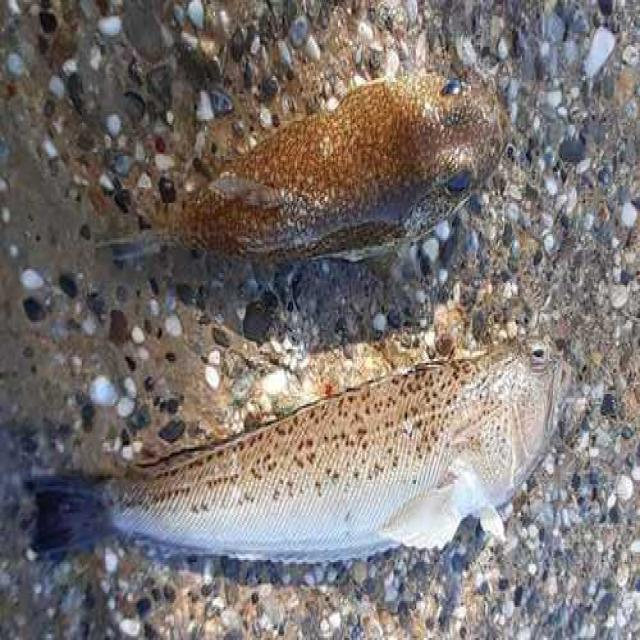Balik: (31, 344, 569, 561), (152, 73, 508, 261)
